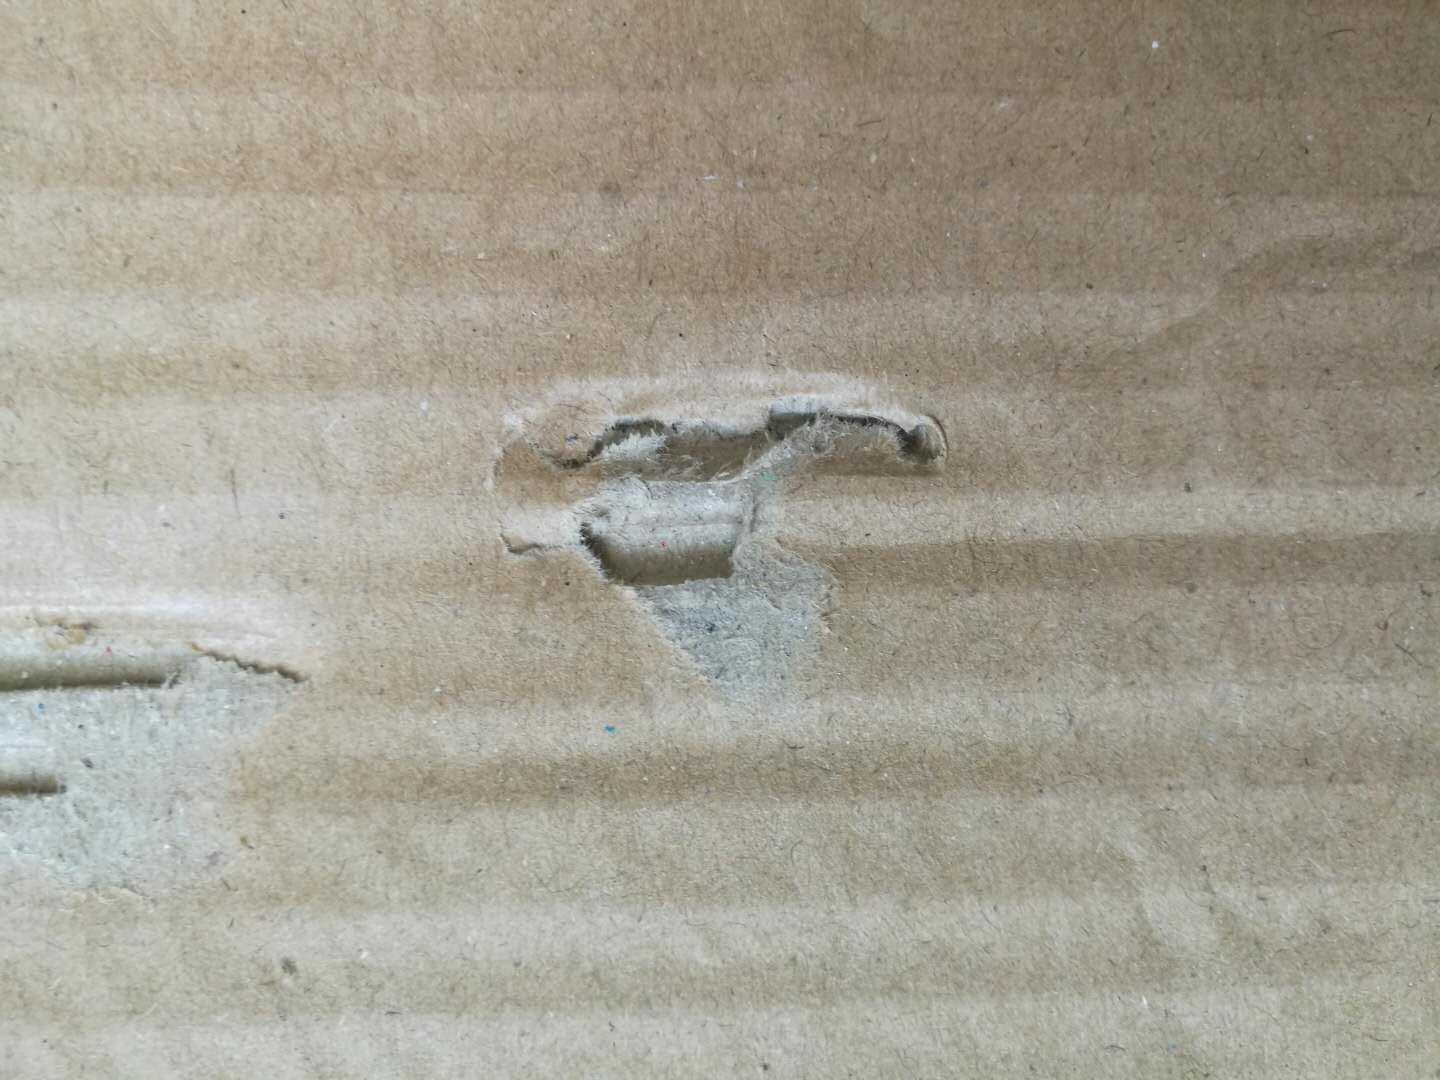defect: (472, 335, 1000, 763), (2, 569, 355, 950)
